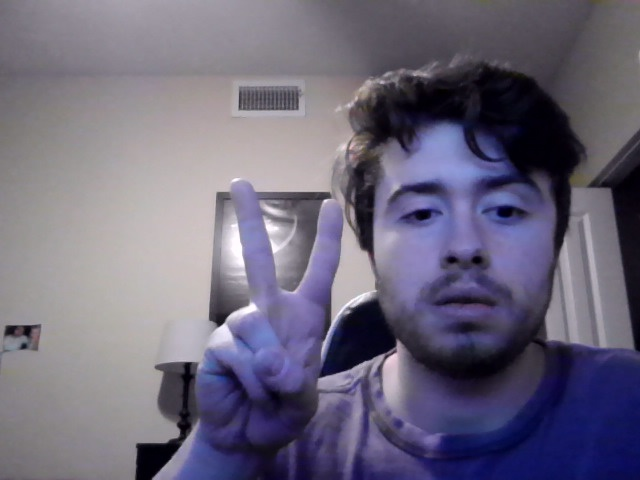v: (192, 177, 345, 471)
